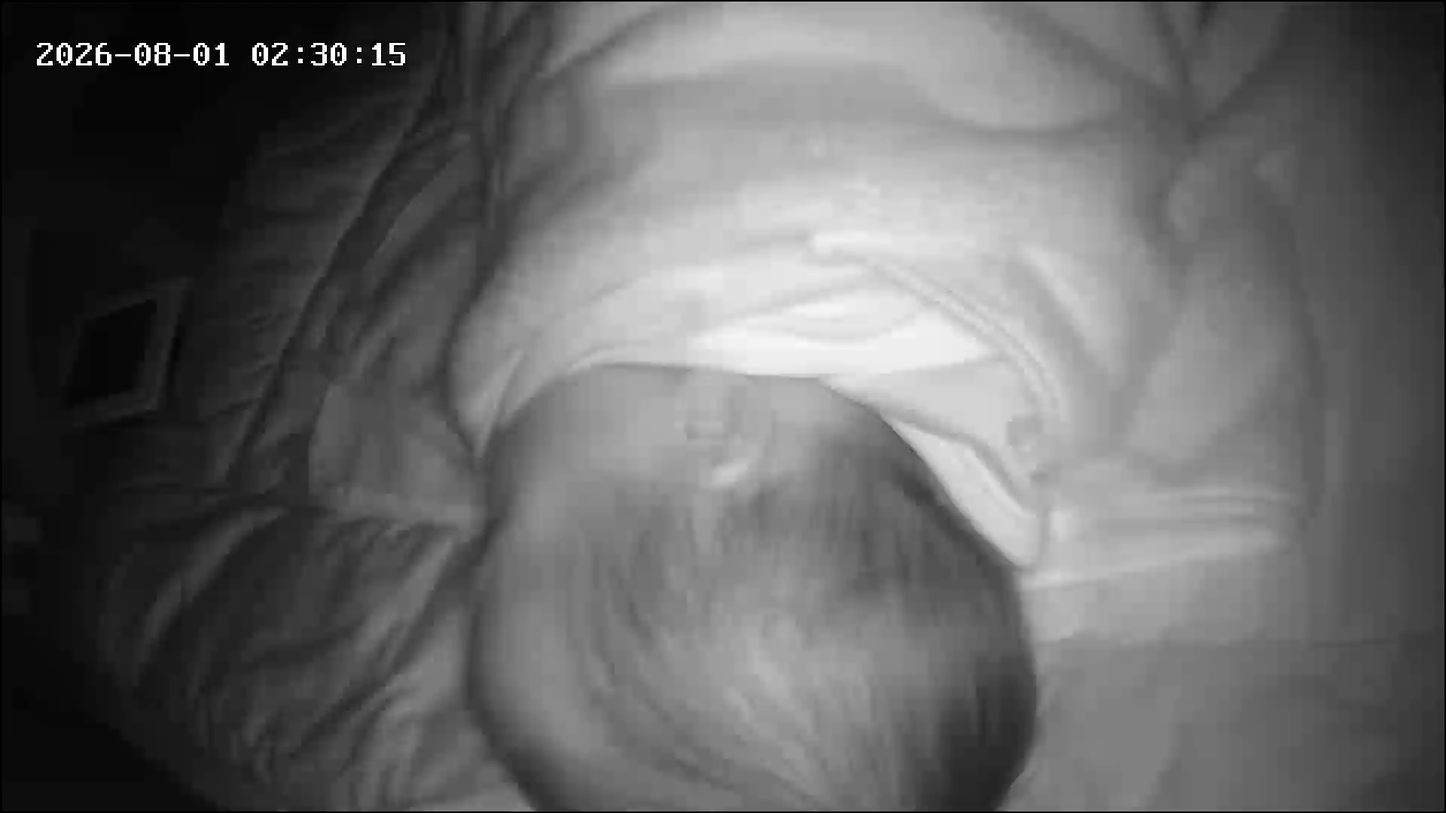baby: (414, 0, 1059, 811)
baby_face: (437, 360, 1032, 812)
